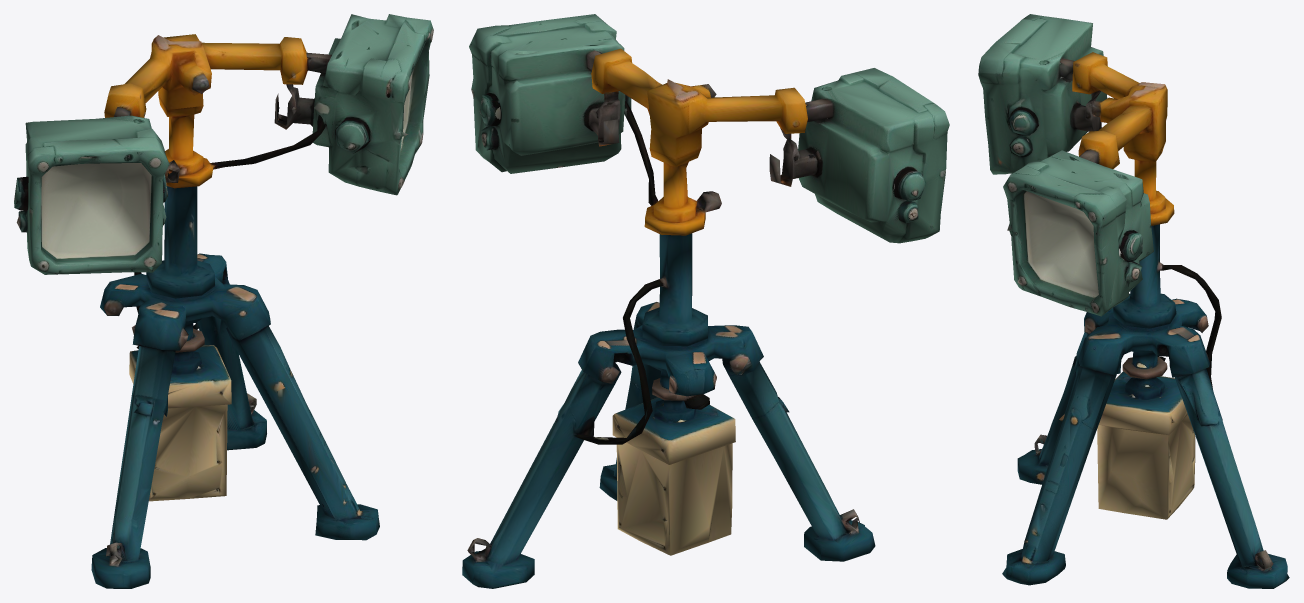
File: mall_lamp_3000.glb
3 views of the same model, side by side, from view 1: azimuth 30°, elevation 25°; view 2: azimuth 150°, elevation 25°; view 3: azimuth 270°, elevation 25° (orthographic). The views are drawn at different scales.
Parts seen in each view (by area): view 1: tripo_node_a5d6bd05-4b78-4d61-aa1e-0065b606c2c8; view 2: tripo_node_a5d6bd05-4b78-4d61-aa1e-0065b606c2c8; view 3: tripo_node_a5d6bd05-4b78-4d61-aa1e-0065b606c2c8.
Boxes of the visible parts, x1,y1,x2,y2 form: tripo_node_a5d6bd05-4b78-4d61-aa1e-0065b606c2c8: (14,14,433,588); tripo_node_a5d6bd05-4b78-4d61-aa1e-0065b606c2c8: (462,14,949,588); tripo_node_a5d6bd05-4b78-4d61-aa1e-0065b606c2c8: (978,14,1289,588).
Size of the model in its own units: 0.9634 by 0.9804 by 0.6349.
1 material, 1 textured.
